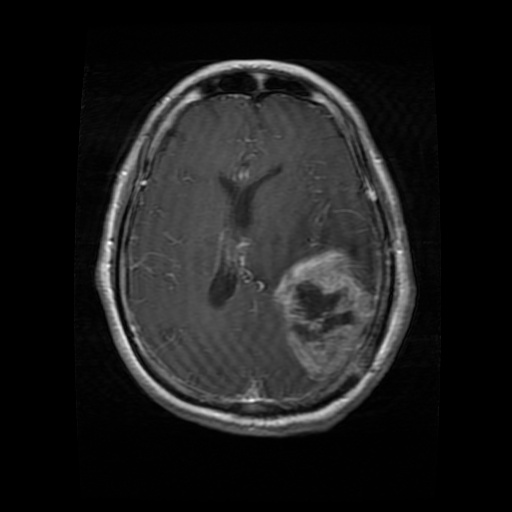glioma: (273, 244, 376, 377)
